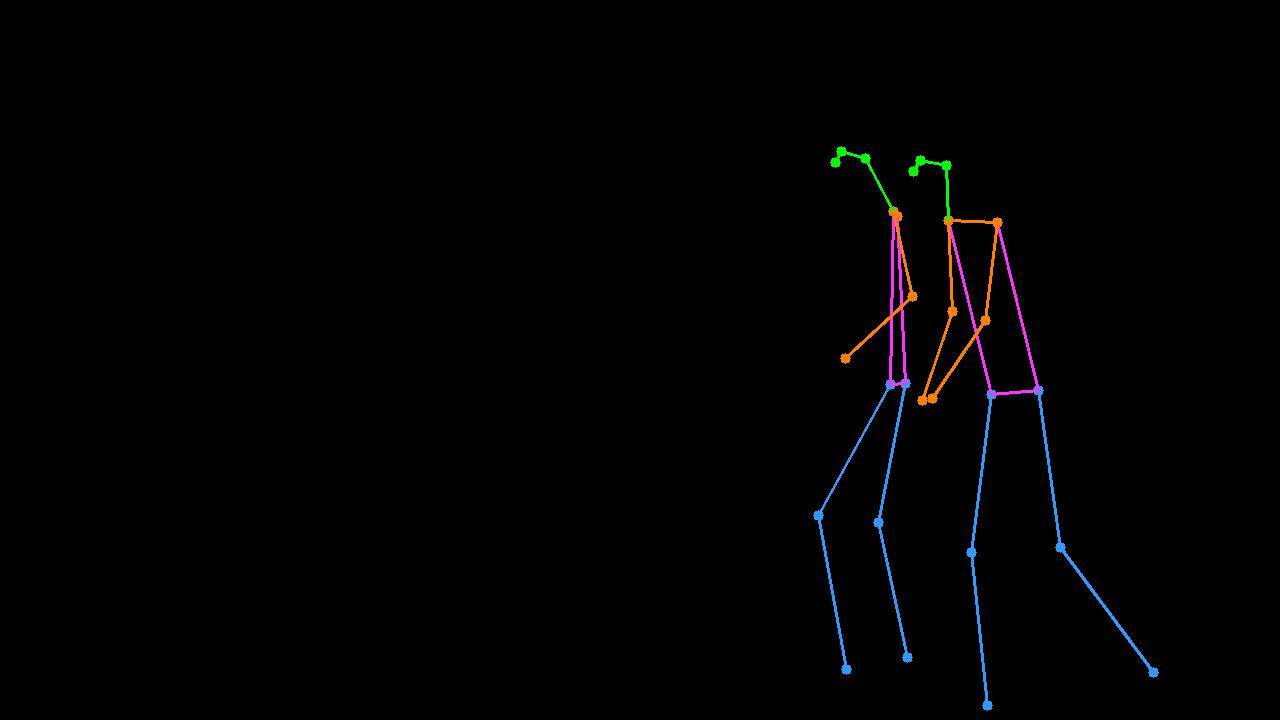normal: (909, 133, 1194, 720), (788, 122, 929, 720)
